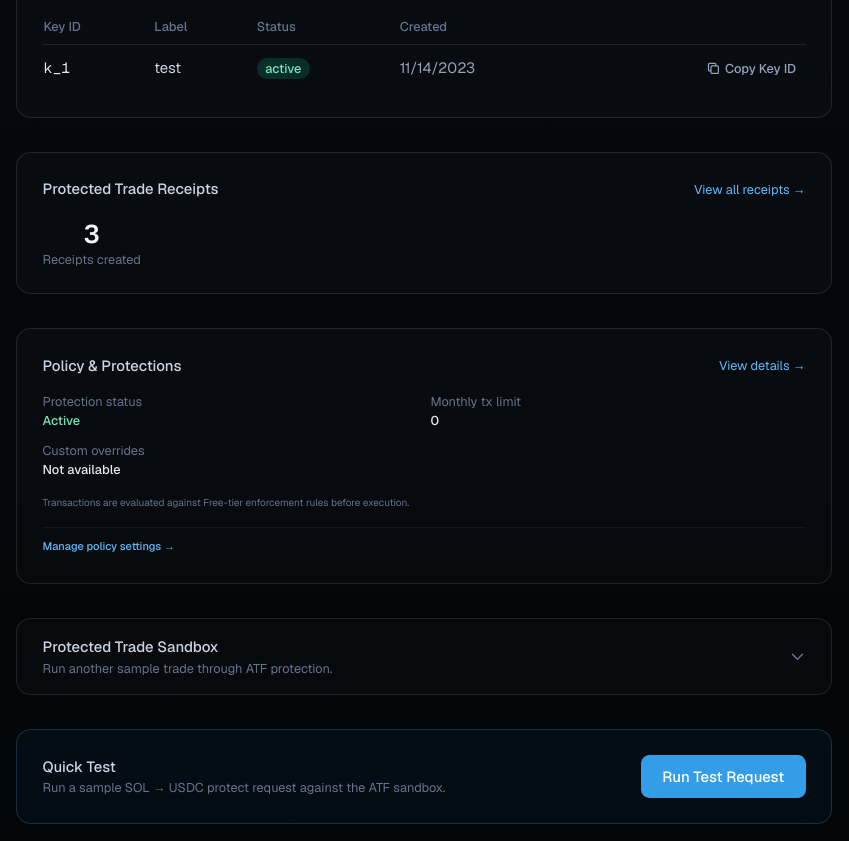
Test: Dashboard onboarding demotion › expands sandbox card when toggle is clicked
(page scrolled)
# Click to expand
Click the button with test id "sandbox-toggle".
click(131, 647)  # box [17,619,831,694]
(page scrolled)
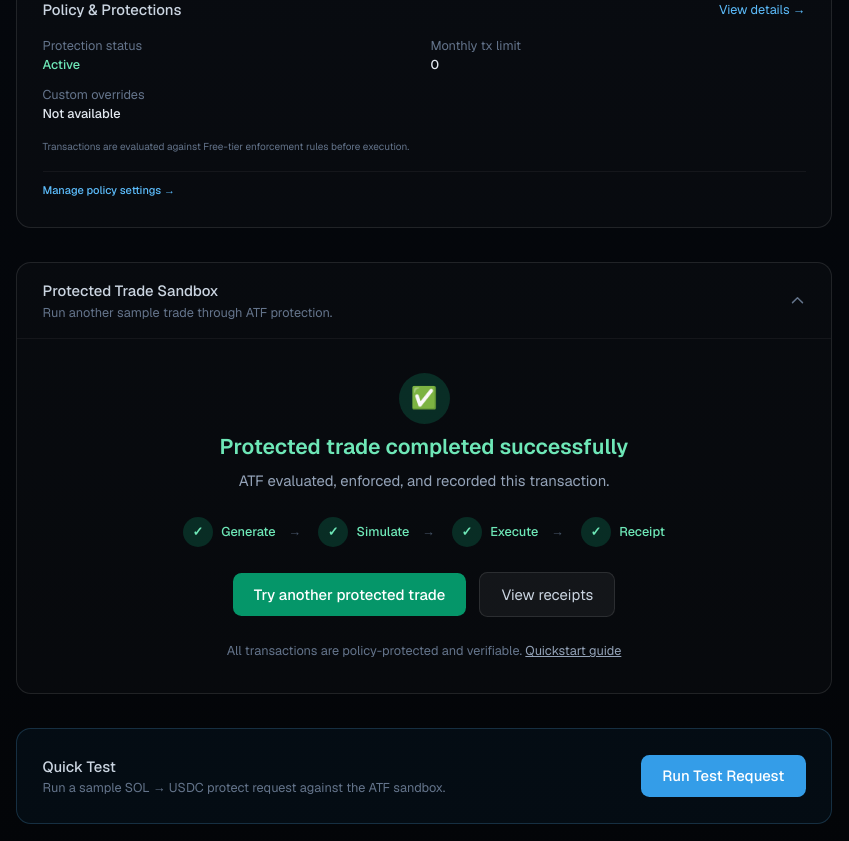
Result: the heading "Protected trade completed successfully" is shown at [220,433,628,460]
Result: the button "Try another protected trade" is shown at [232,573,466,616]
